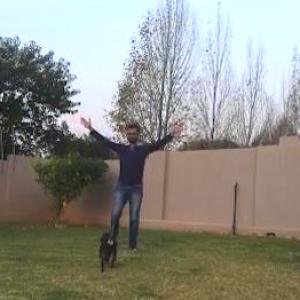takeoff: (81, 119, 184, 246)
